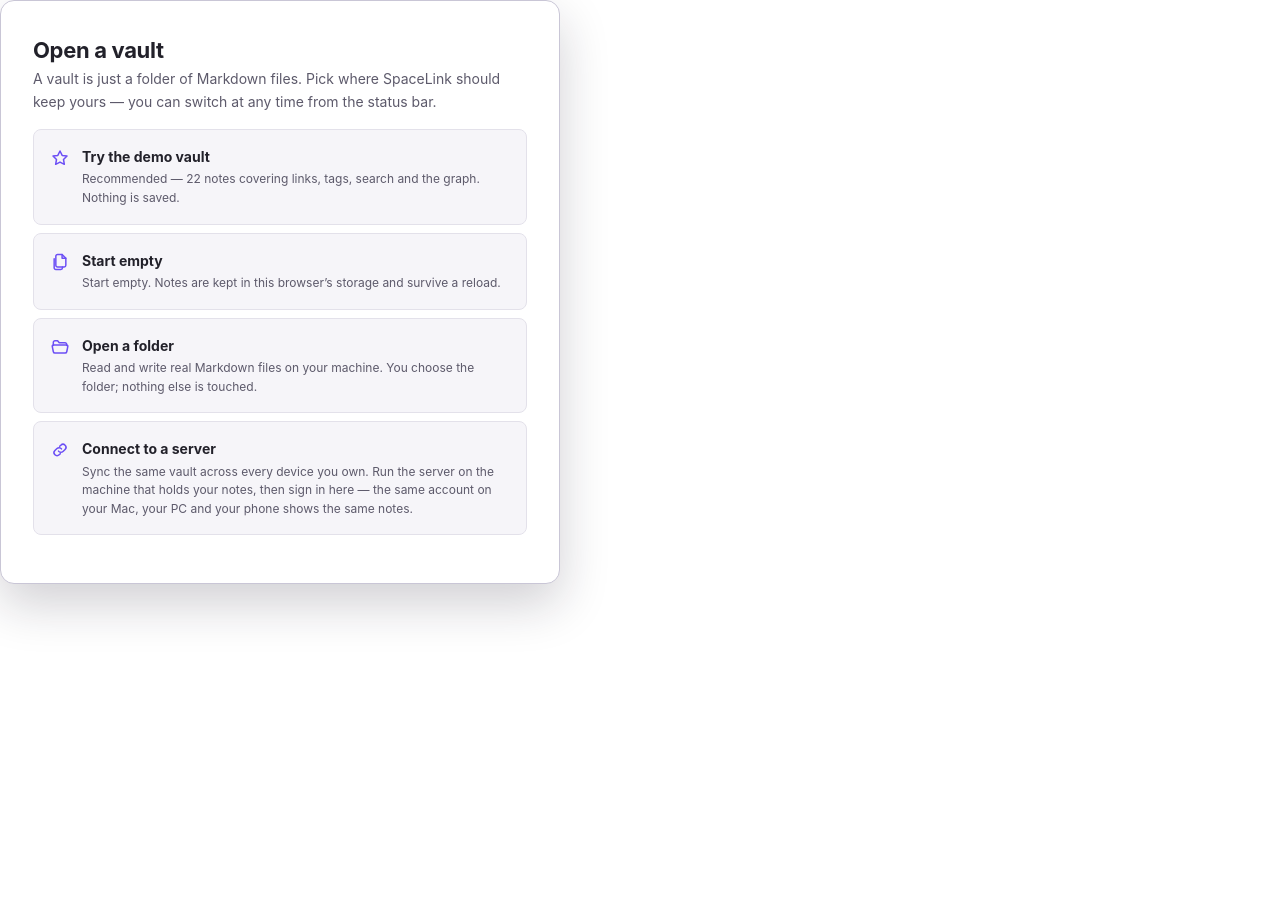
Test: VaultPicker › shows an error with a retry, and toasts it, when opening fails
Click the button that starts with "Open a folder" at (280, 365), box [33,318,527,413]
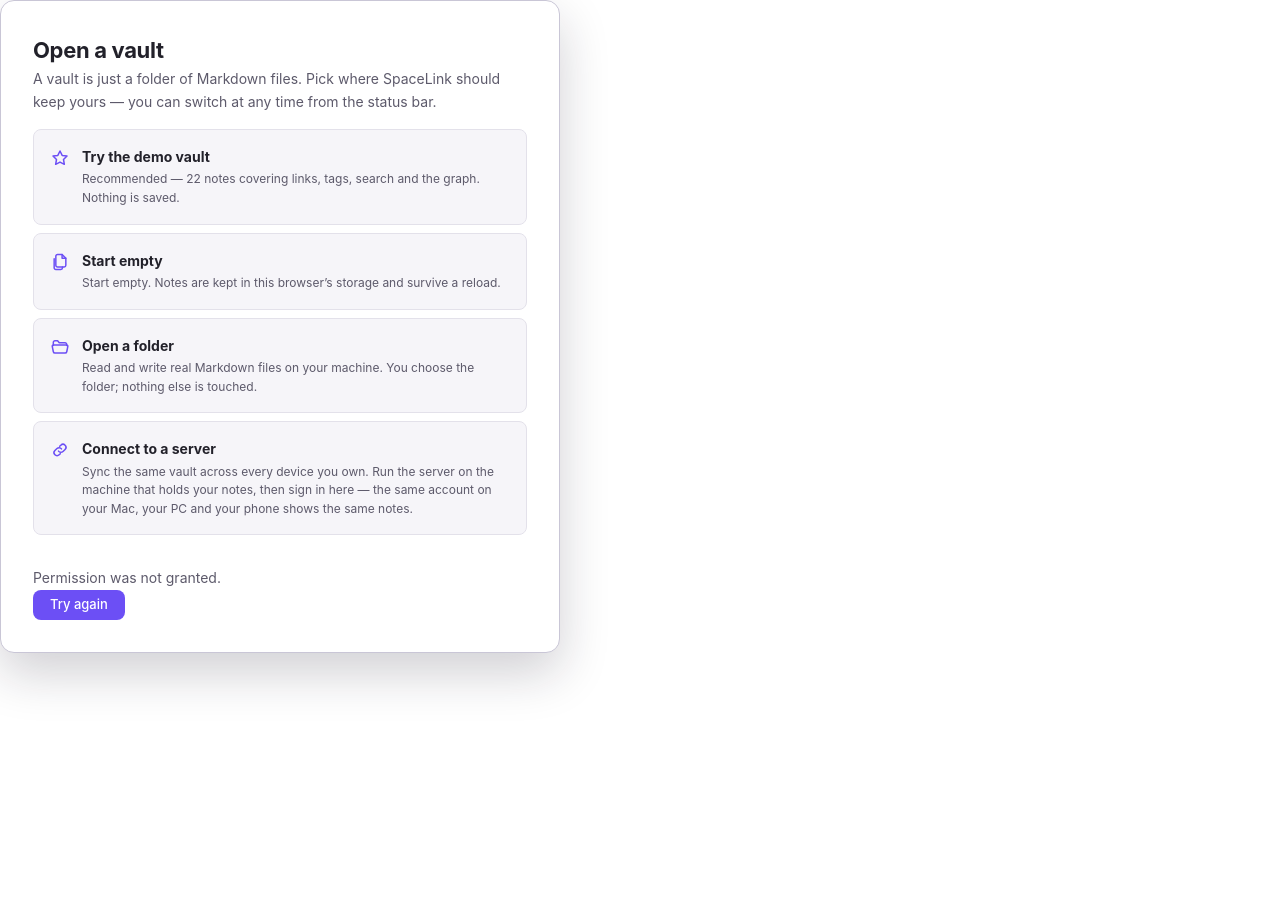
expect the message shows "Permission was not granted.": met, box [33,569,221,586]
Click the button "Try again" at (79, 605), box [33,590,125,620]
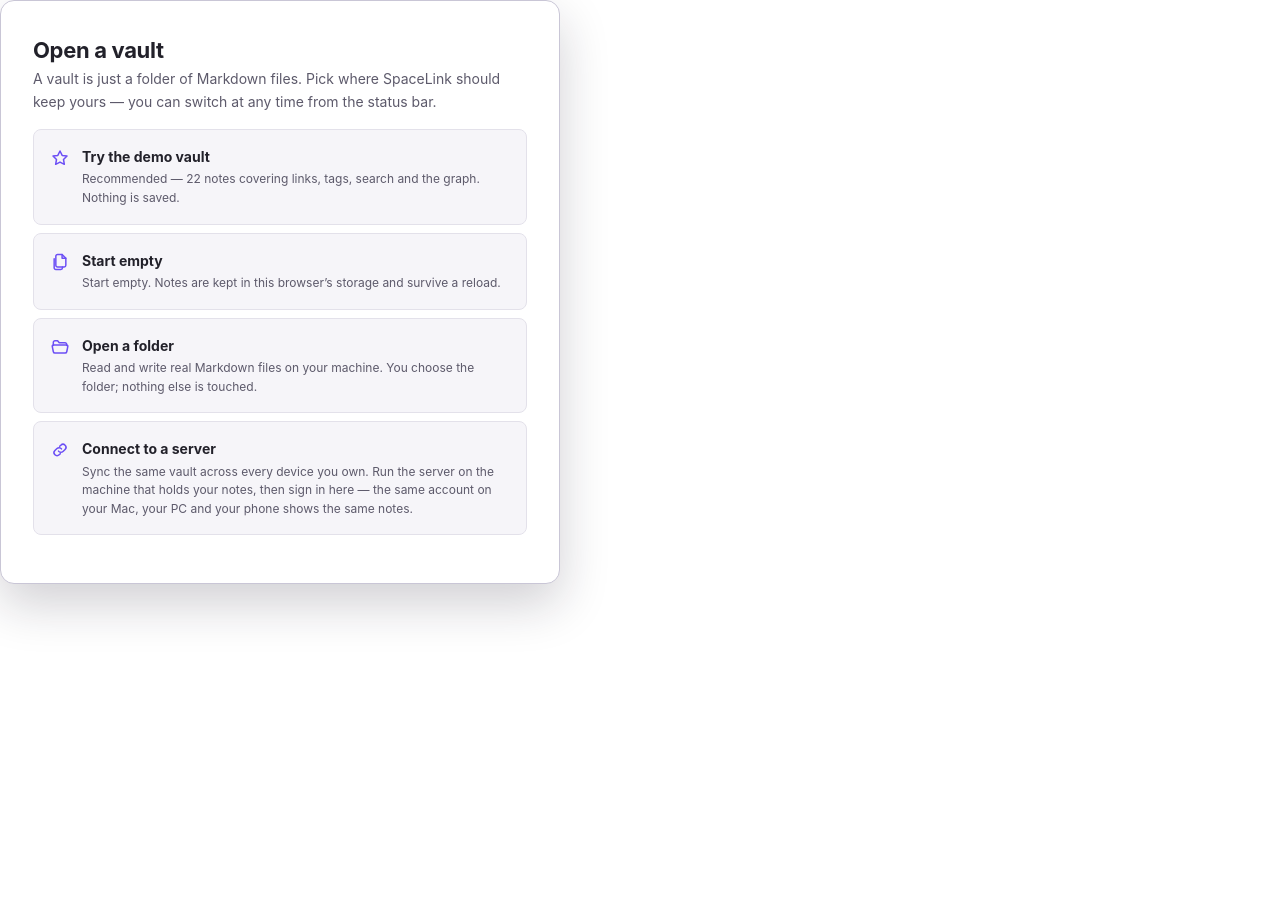
expect the message "Permission was not granted. Try again" is gone: met
